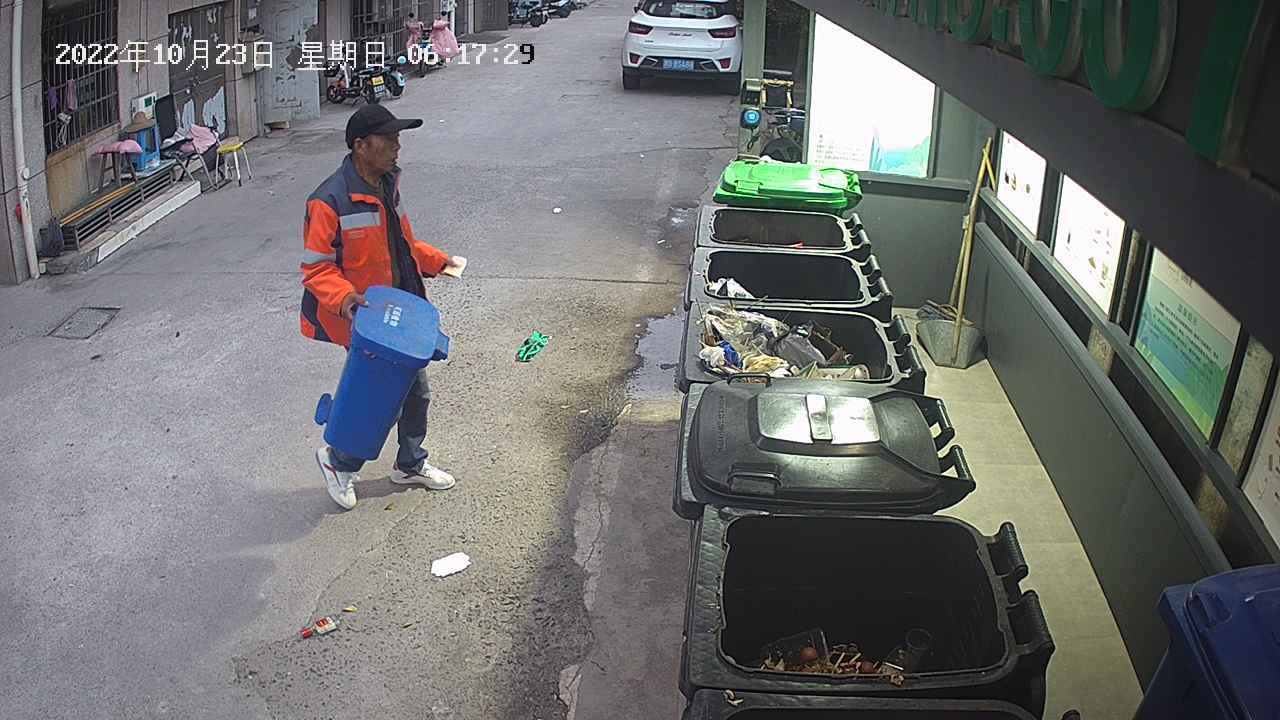worker: (291, 98, 471, 515)
youtong: (304, 280, 456, 466)
